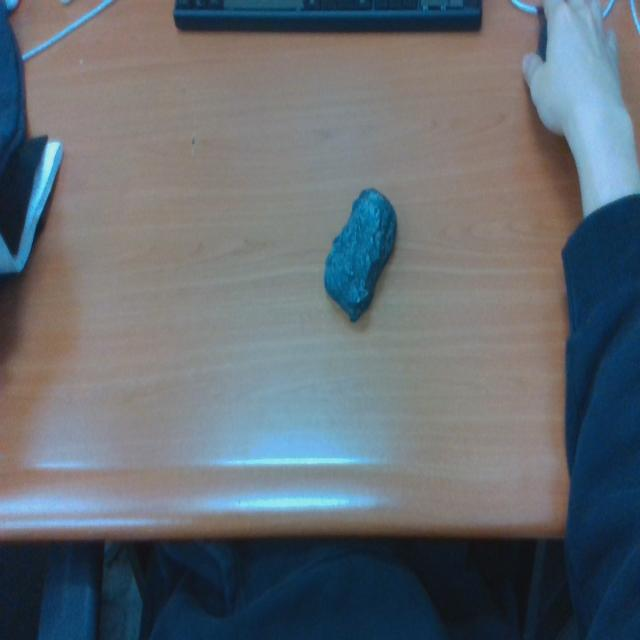stone: (324, 188, 398, 324)
